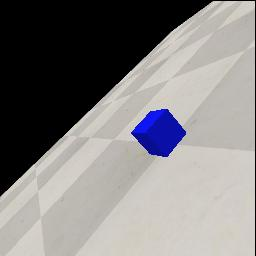box: (131, 109, 186, 157)
